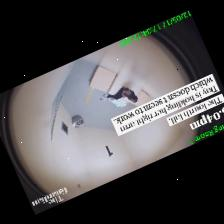person: (102, 87, 136, 102)
